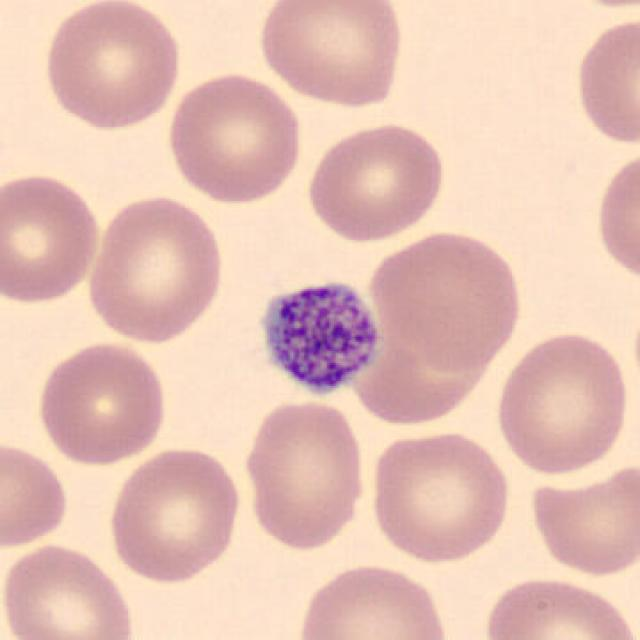Platelets: (247, 268, 388, 400)
RBC: (364, 228, 526, 370), (84, 190, 228, 346), (491, 326, 633, 478), (238, 395, 370, 554), (364, 427, 514, 566), (103, 442, 244, 586), (162, 67, 306, 206), (39, 0, 185, 132), (302, 118, 450, 245), (32, 337, 171, 467), (254, 0, 407, 109), (0, 167, 105, 307), (524, 458, 640, 580), (0, 539, 138, 640), (292, 559, 454, 640), (478, 573, 638, 640), (570, 12, 640, 149), (0, 437, 71, 552), (592, 143, 638, 289), (546, 0, 640, 14)
